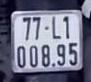0: (15, 44, 27, 68), (28, 44, 39, 69)
1: (63, 15, 72, 41)
5: (68, 42, 79, 66)
7: (22, 16, 33, 41), (33, 16, 41, 41)
8: (41, 44, 51, 70)
9: (55, 43, 66, 68)
L: (50, 14, 63, 40)
